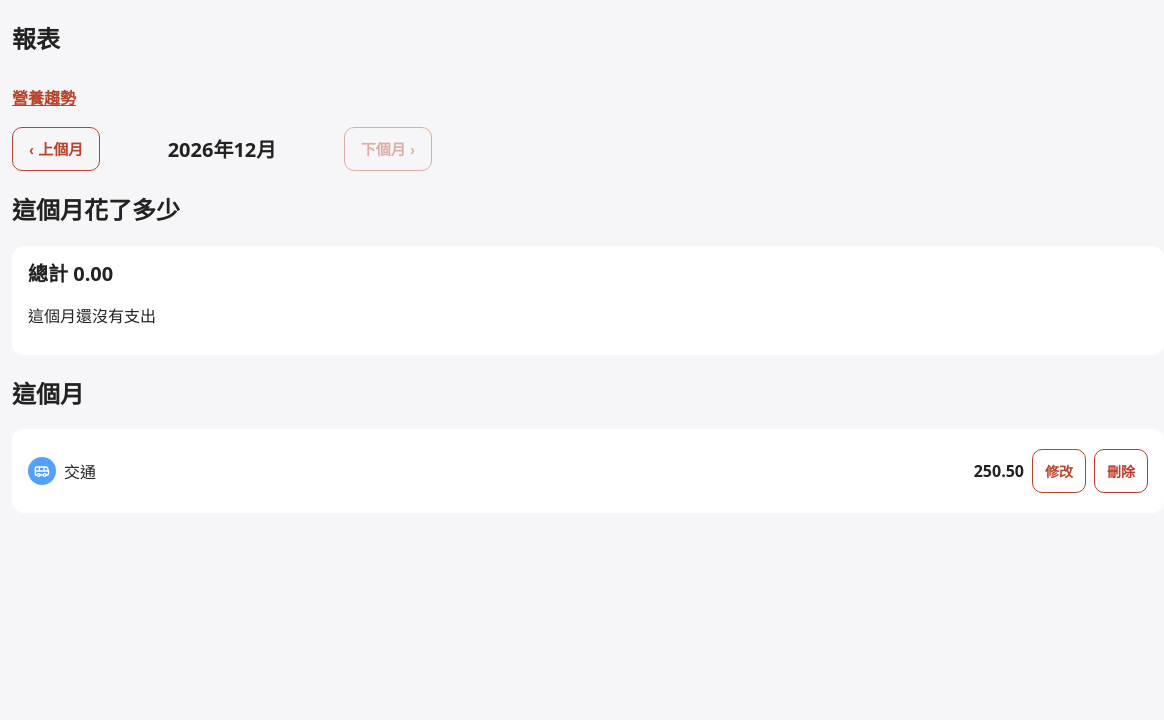
Test case: 記帳 /expenses › 修改金額留空時不送請求
Expected: the text "250.50" is shown, [974,460,1024,482]
Click the button "修改" at x=1059, y=471, box [1032,449,1086,493]
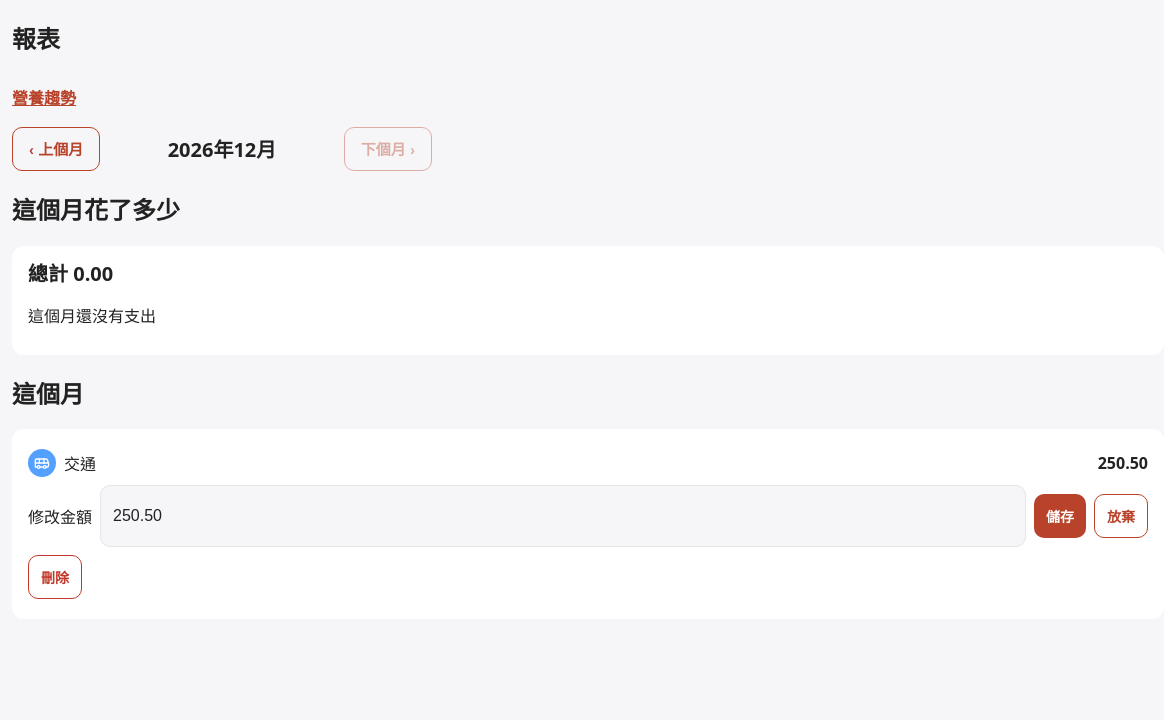
Clear the field labelled "修改金額" at x=563, y=516, box [100,485,1026,547]
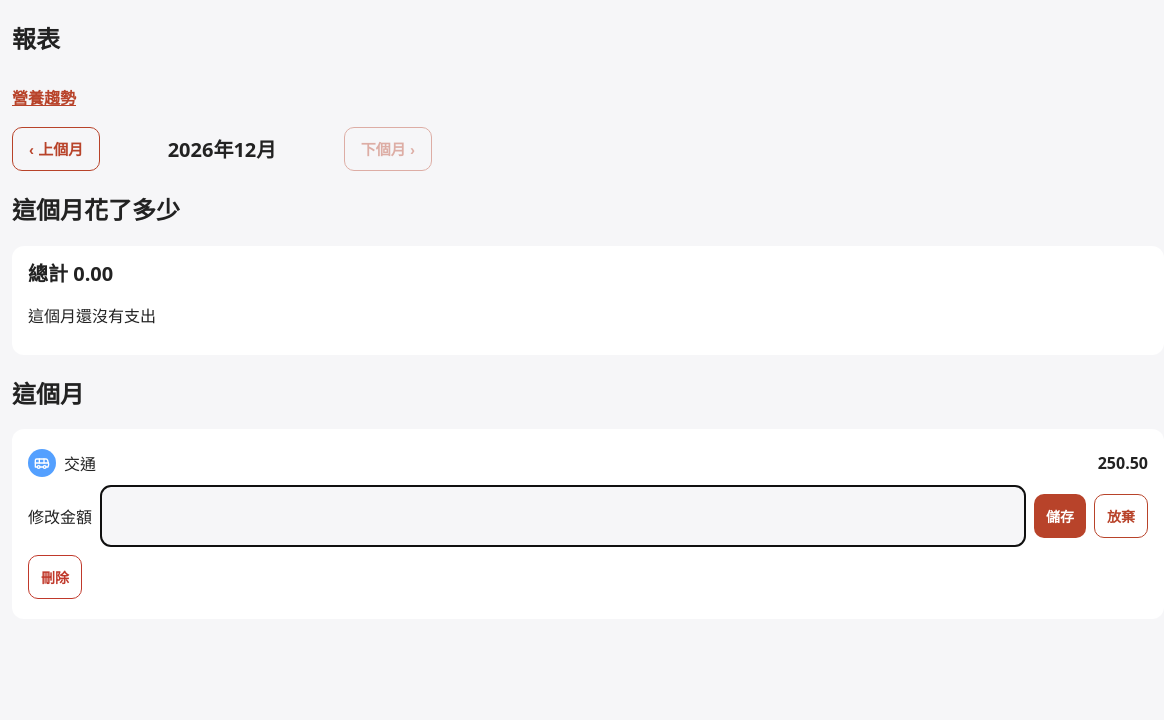
Click the button "儲存" at x=1060, y=516, box [1034,494,1086,538]
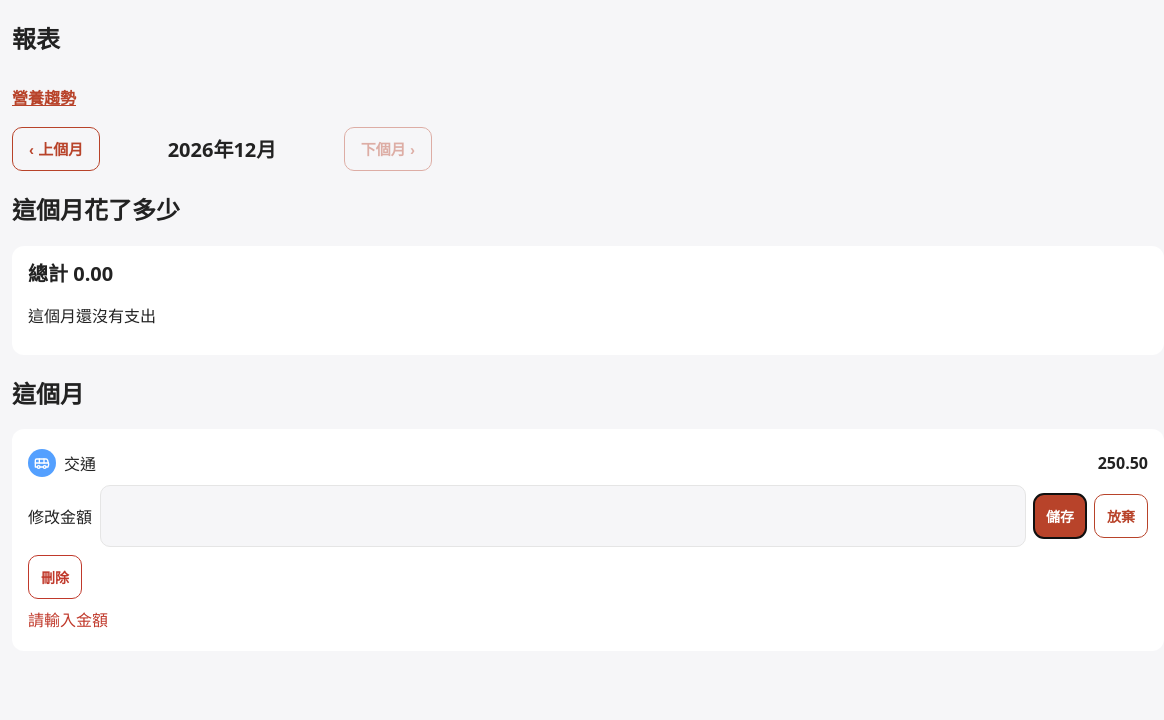
Expected: the message "請輸入金額" is shown, [28,609,108,631]
